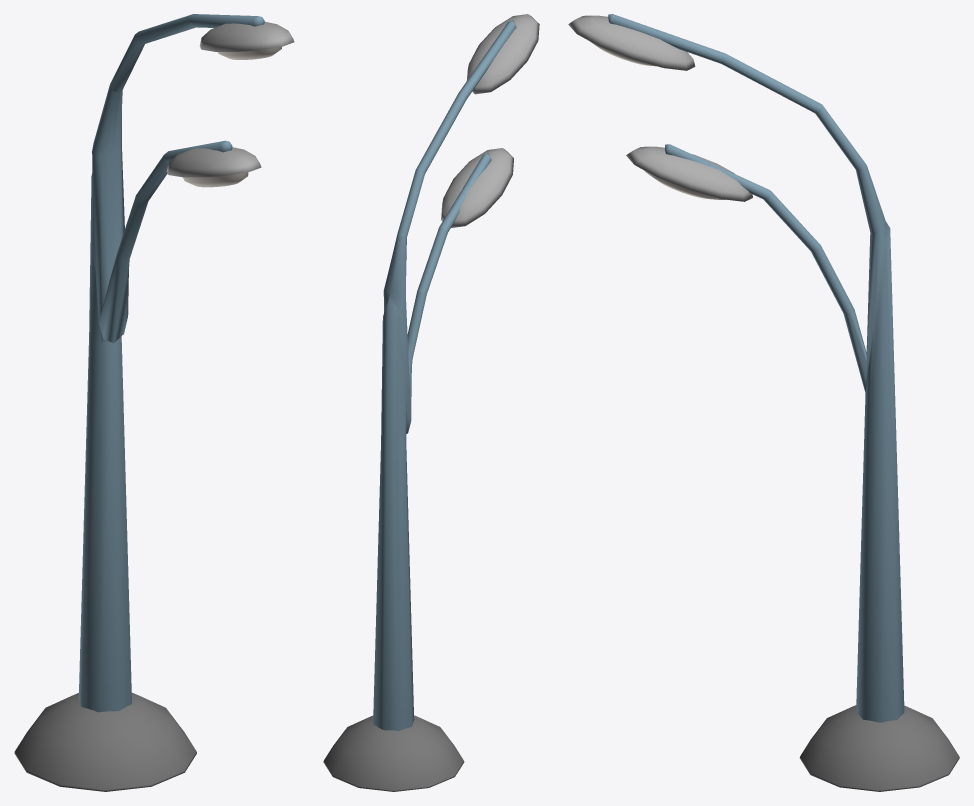
File: Lantern.fbx
The picture shows the model from 3 angles, left to right: view 1: azimuth 30°, elevation 25°; view 2: azimuth 150°, elevation 25°; view 3: azimuth 270°, elevation 25°; orthographic projection. The views are drawn at different scales.
Parts seen in each view (by area): view 1: Lantern; view 2: Lantern; view 3: Lantern.
Boxes of the visible parts, <box> form: Lantern: <box>14,14,294,791</box>; Lantern: <box>323,14,539,791</box>; Lantern: <box>568,14,959,791</box>.
Size of the model in its own units: 16.48 by 34.53 by 6.74.
